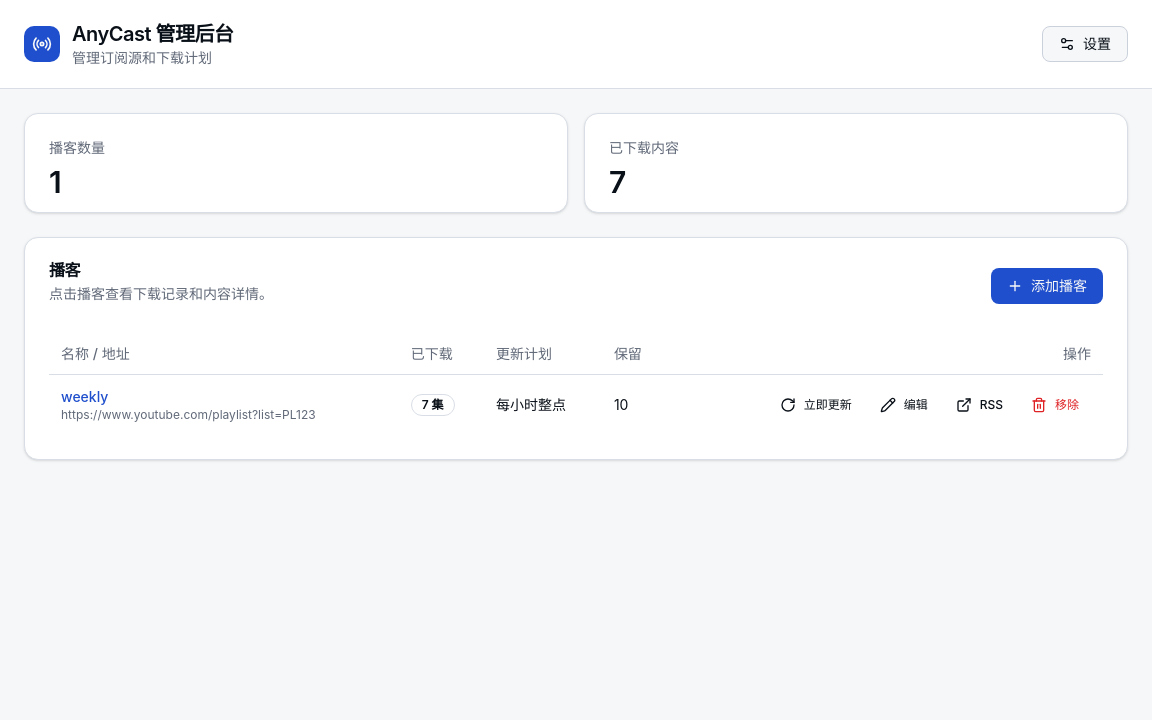
Test: AnyCast admin › shows a retryable error when the manual update cannot be queued
Click the button with aria-label "立即更新 weekly": (816, 404) [768,388,864,420]
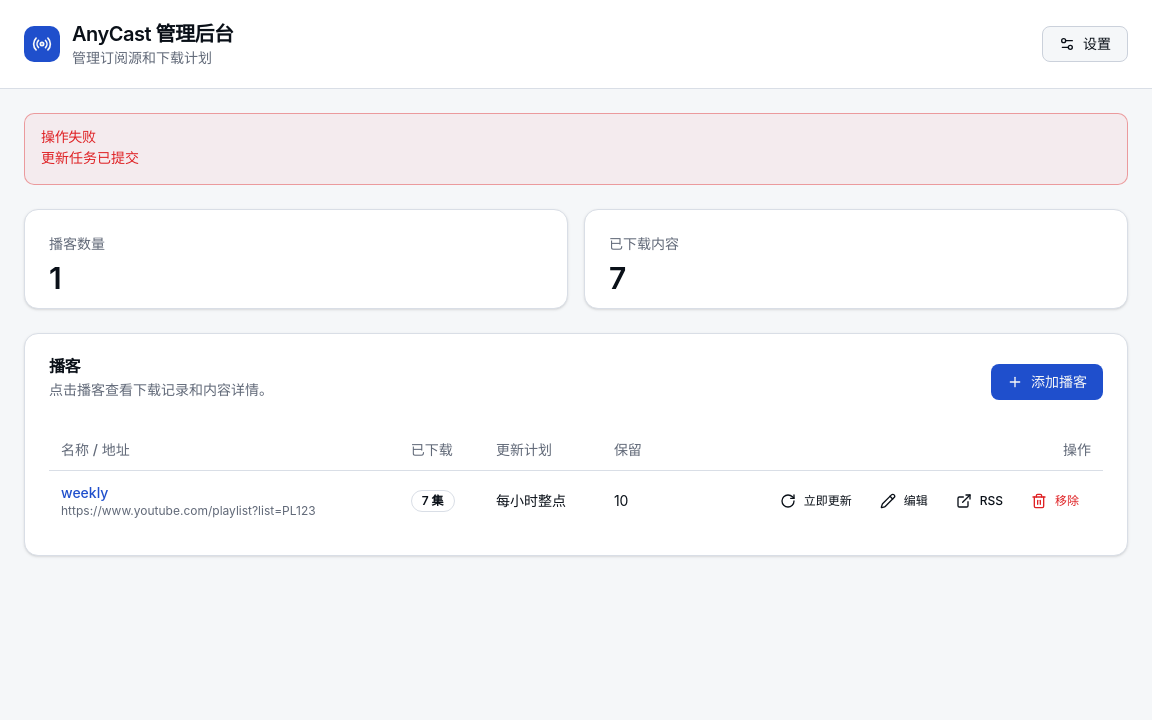
Expected: the button with aria-label "立即更新 weekly" is enabled, [768,484,864,516]
Expected: the text "更新任务已提交" is shown, [41,149,139,166]
